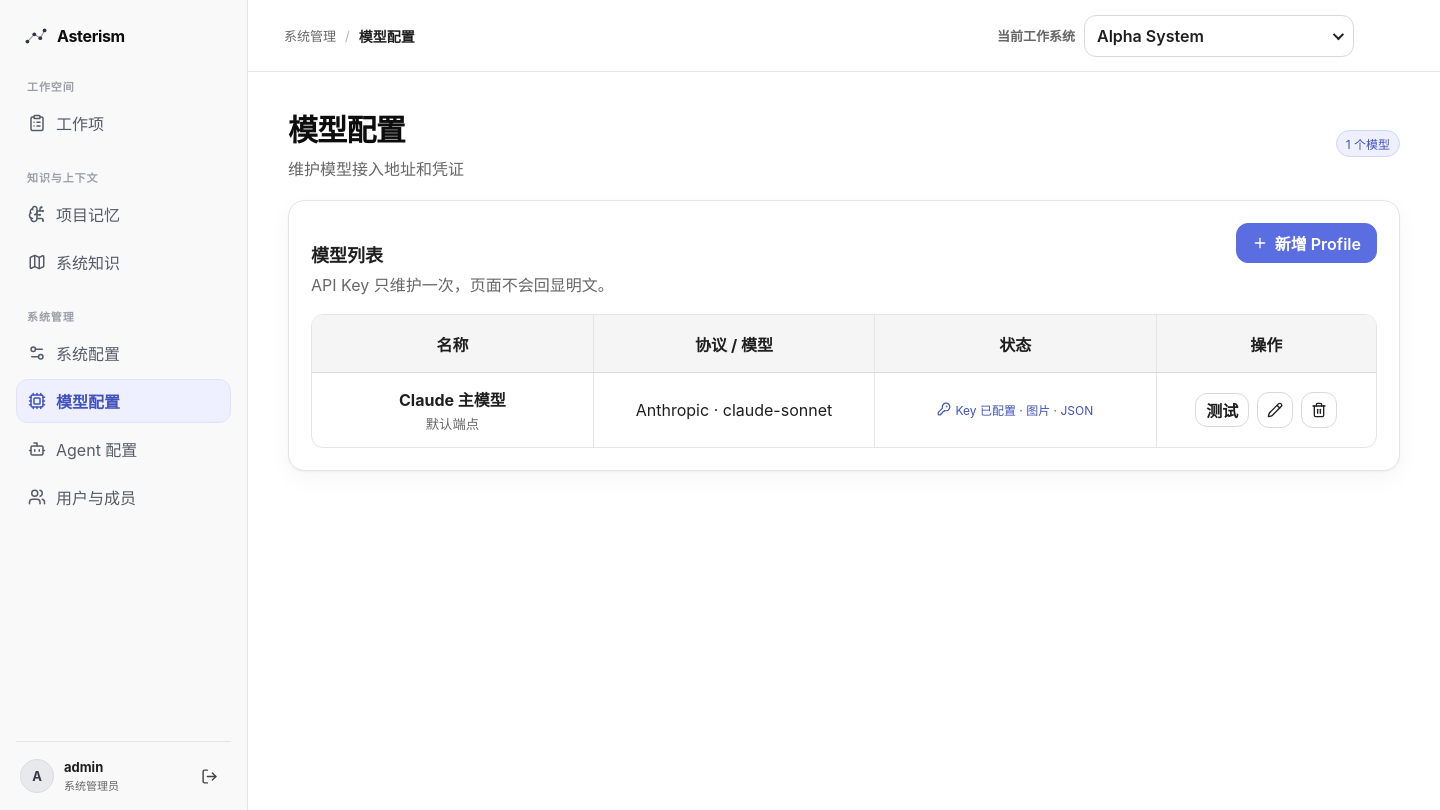
Test: model connectivity test renders 连接失败 status
Click the button with aria-label "测试 Claude 主模型" at {"x": 1222, "y": 410}, box [1195,393,1249,427]
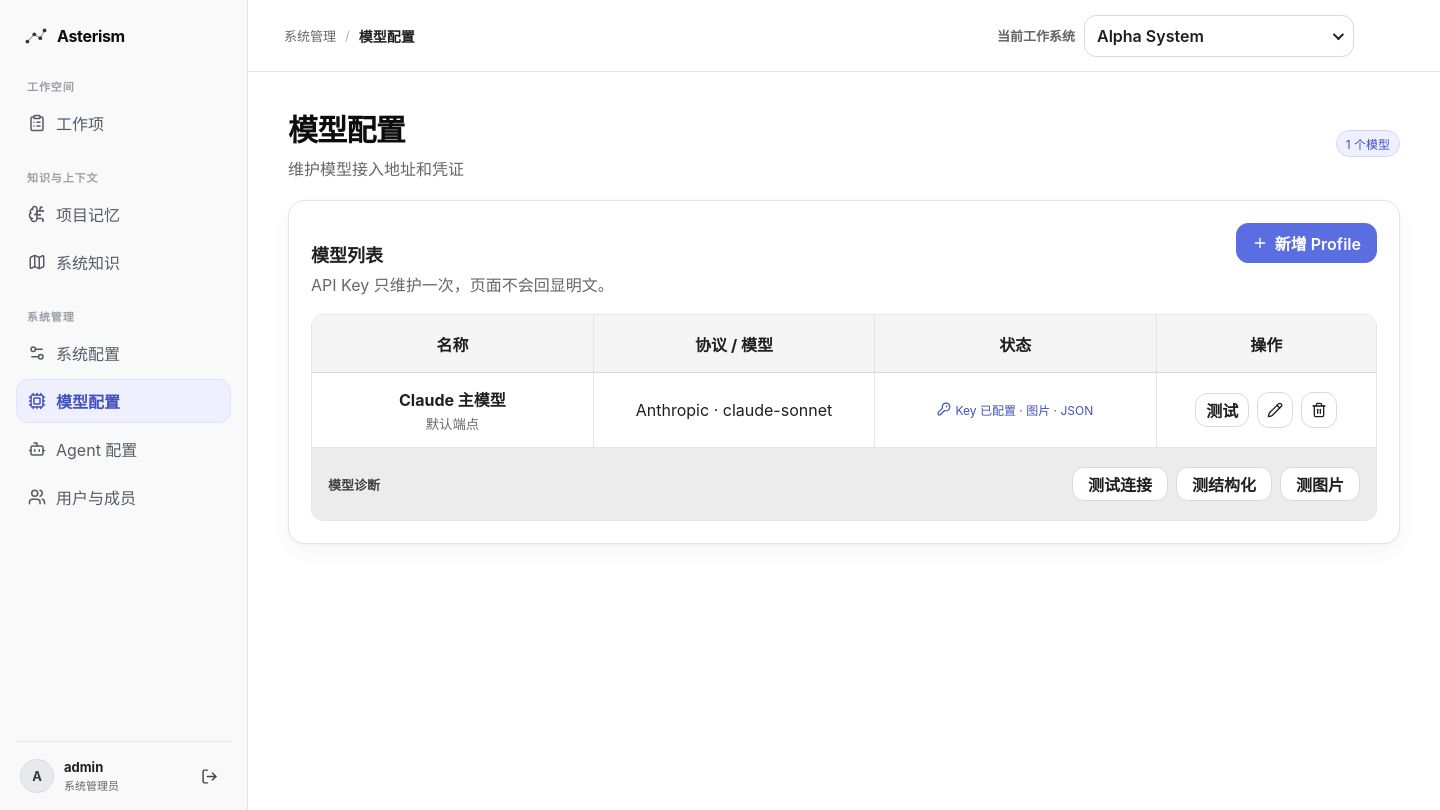
Click the button with aria-label "测试 Claude 主模型连通性" at {"x": 1120, "y": 484}, box [1072,467,1168,501]
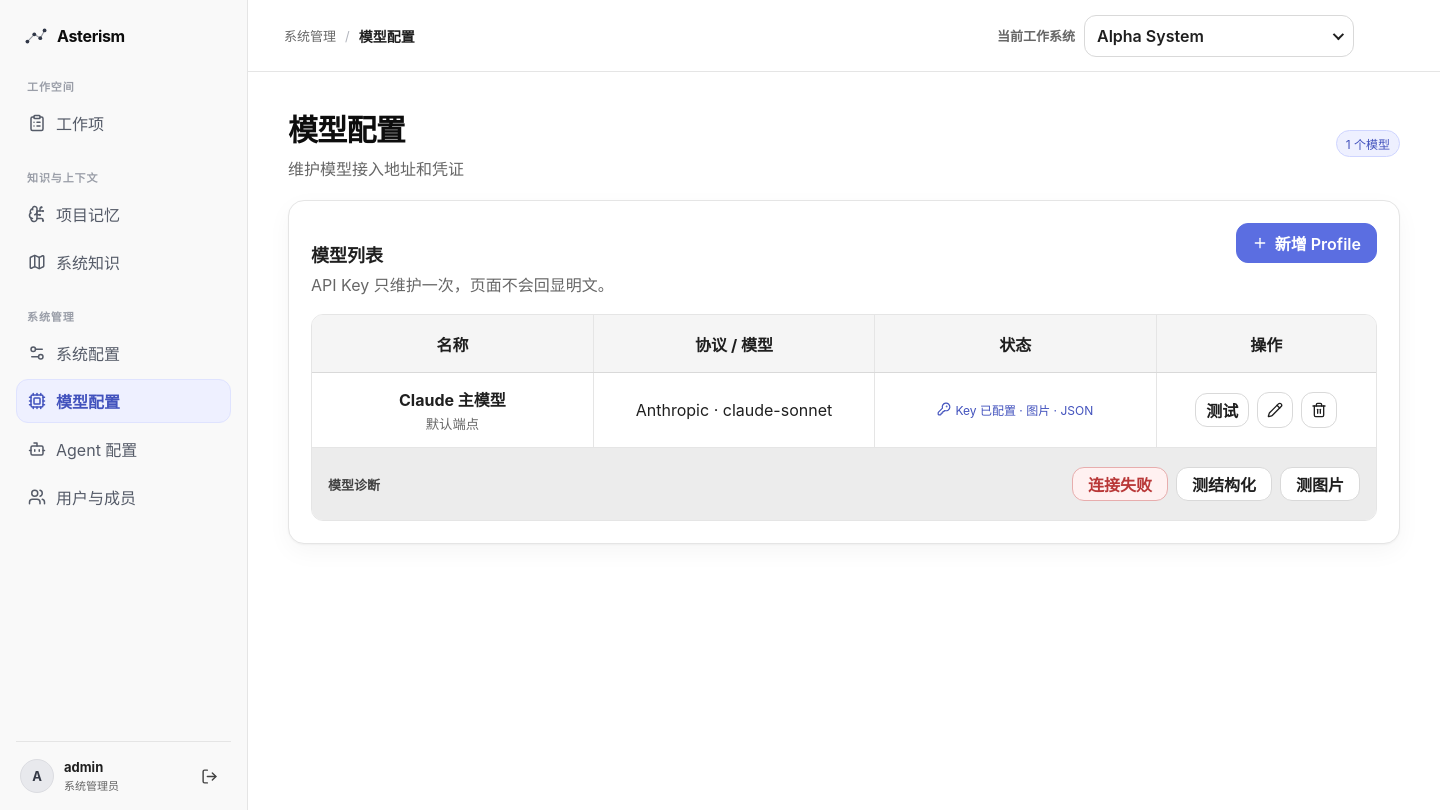
Check: the button with aria-label "测试 Claude 主模型连通性" reads "连接失败", box [1072,467,1168,501]
